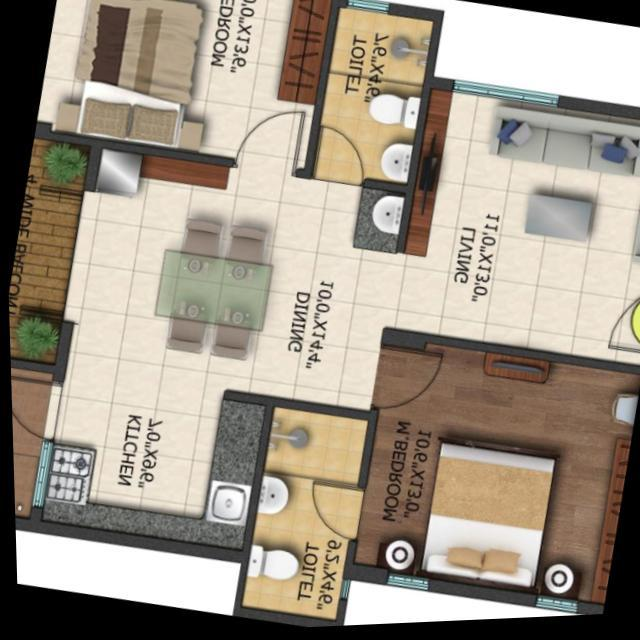Balcony-Sitout: (7, 126, 97, 371)
Bedroom: (33, 0, 336, 179)
Bedroom with Toilet: (233, 338, 640, 630)
Dining: (141, 212, 282, 368)
Kitchen: (27, 368, 264, 565)
Living: (379, 81, 640, 379)
Toilet: (233, 394, 369, 629), (307, 0, 435, 192)
Utility: (8, 358, 58, 533)
